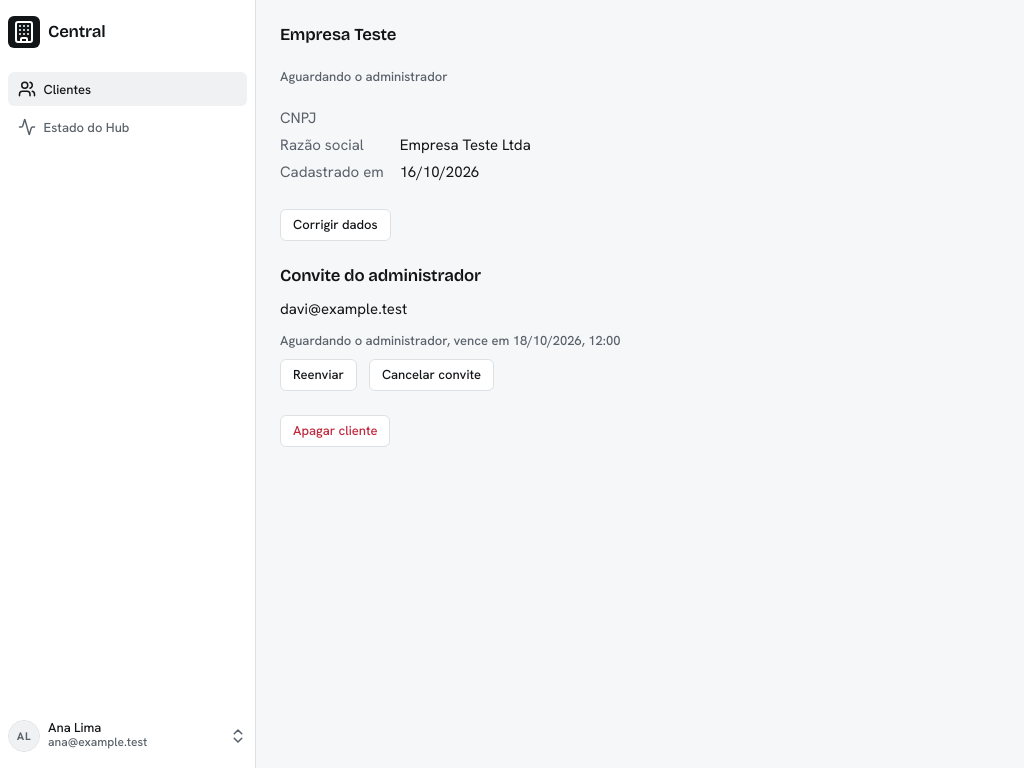
Test: 204: envia o nome e a revisão lida, vai à lista com "Cliente apagado." e o cliente some
The image size is (1024, 768).
(page scrolled)
Step 1. Click the button "Apagar cliente" → click(335, 431), box [280, 415, 390, 447]
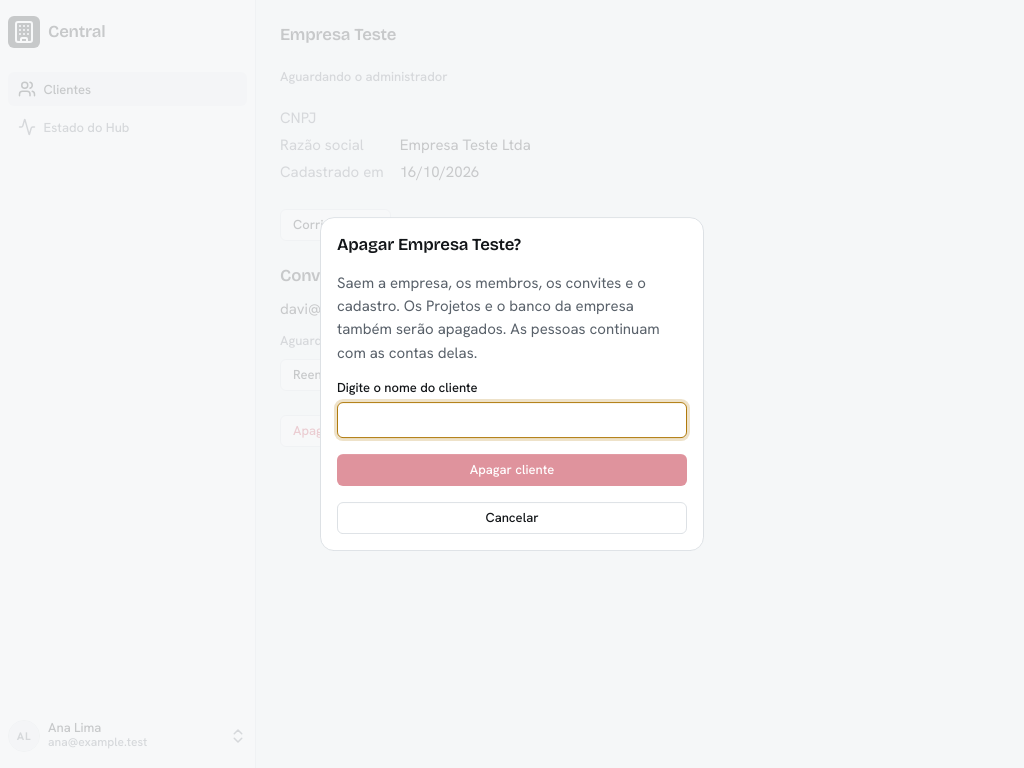
Step 2. Type "Empresa Teste" into the field labelled "Digite o nome do cliente" → (512, 420), box [337, 402, 687, 438]
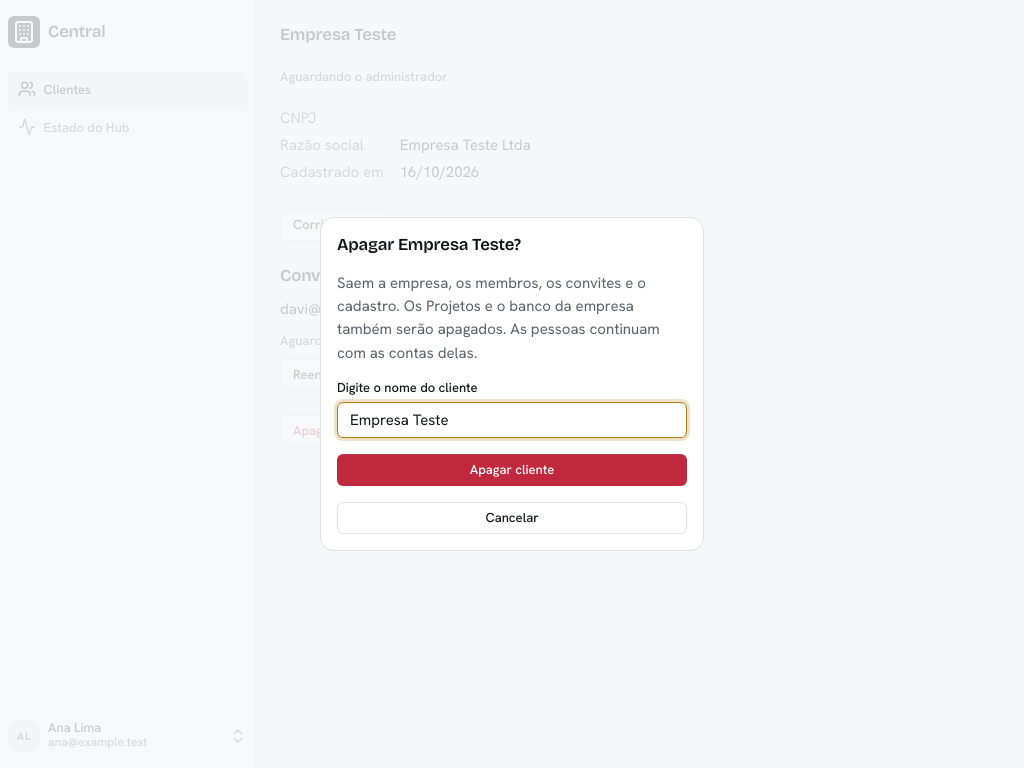
Step 3. Click the button "Apagar cliente" → click(512, 470), box [337, 454, 687, 486]
(page scrolled)
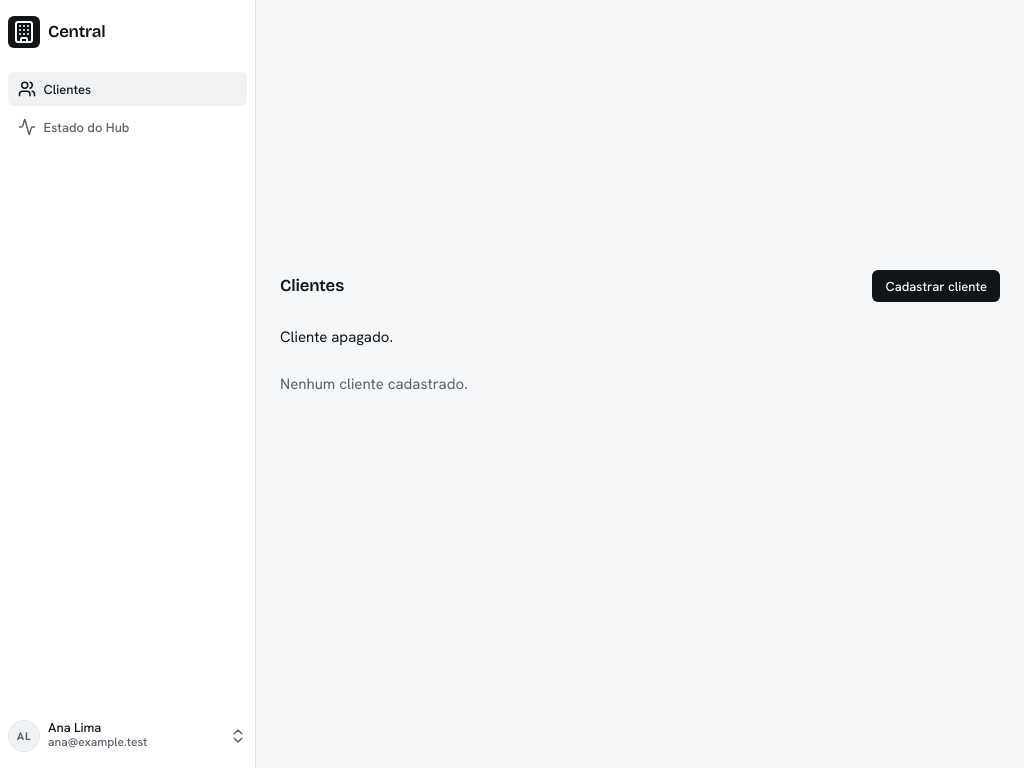
Check: the text "Cliente apagado." is shown, box [280, 327, 393, 347]
Check: the text "Nenhum cliente cadastrado." is shown, box [280, 374, 468, 394]
